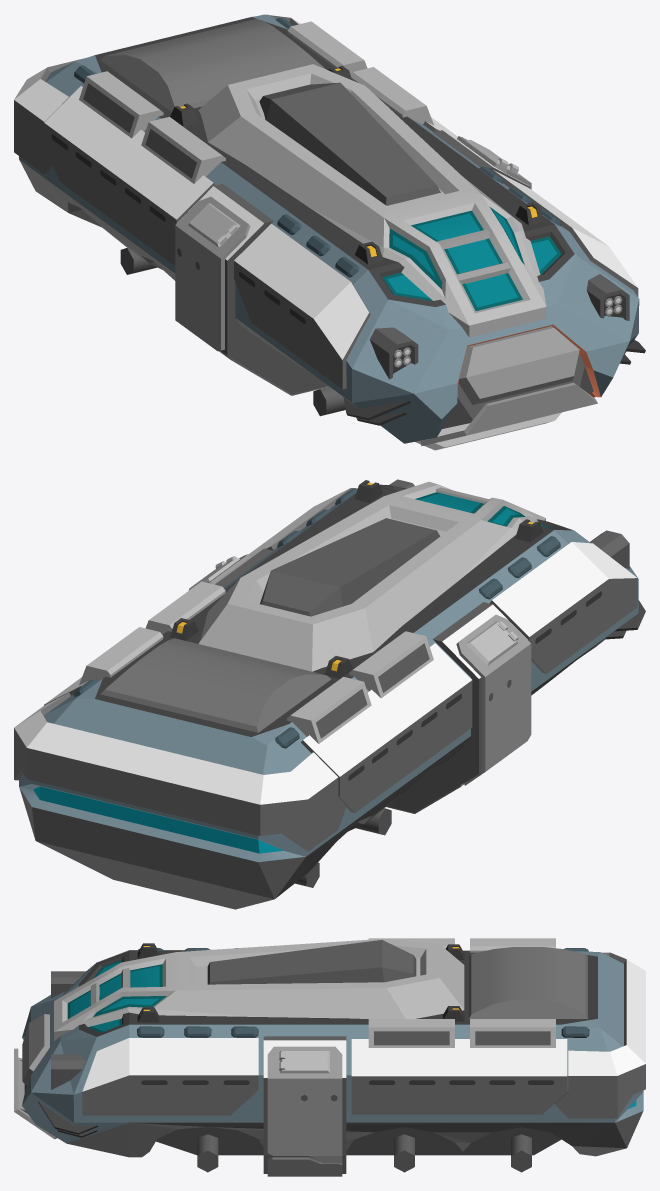
Rendered from transport_004.fbx.
3 renders of one model, top to bottom at view 1: azimuth 30°, elevation 25°; view 2: azimuth 150°, elevation 25°; view 3: azimuth 270°, elevation 25°, orthographic. The views are drawn at different scales.
Visible parts, largest first — view 1: transport_004; view 2: transport_004; view 3: transport_004.
Part boxes in pixels (box(x1,y1,x2,y2)): transport_004: box(14, 14, 645, 450); transport_004: box(14, 479, 645, 909); transport_004: box(14, 938, 645, 1176).
Size of the model in its own units: 484 by 1046 by 350.
